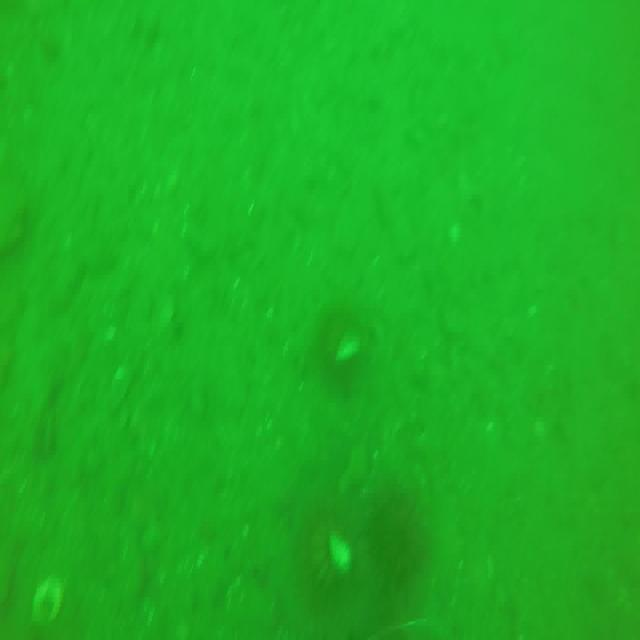echinus: (367, 482, 429, 598), (302, 498, 358, 608), (316, 299, 370, 394)
scallop: (31, 576, 64, 624)
